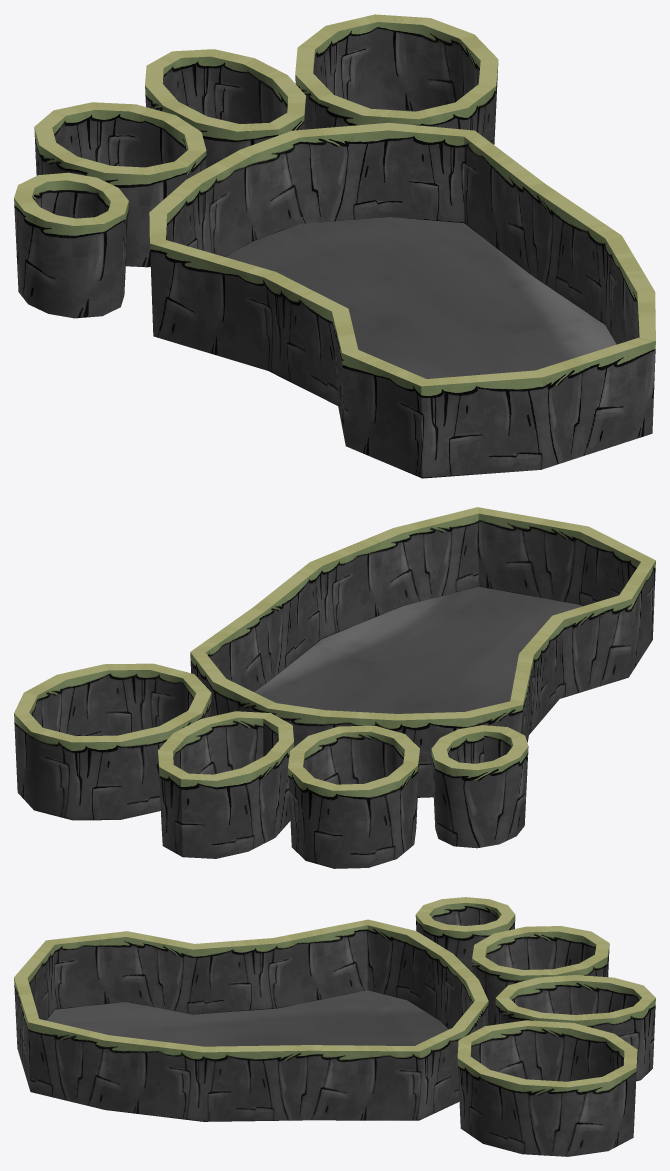
File: BigFoot.FBX
The picture shows the model from 3 angles, top to bottom: view 1: azimuth 30°, elevation 25°; view 2: azimuth 150°, elevation 25°; view 3: azimuth 270°, elevation 25°; orthographic projection. The views are drawn at different scales.
Parts seen in each view (by area): view 1: BigFoot; view 2: BigFoot; view 3: BigFoot.
Part boxes in pixels (bbox=[...]): BigFoot: bbox=[14, 14, 655, 478]; BigFoot: bbox=[14, 507, 655, 868]; BigFoot: bbox=[14, 897, 655, 1156].
Size of the model in its own units: 1255 by 221 by 1789.
1 material, 1 textured.
